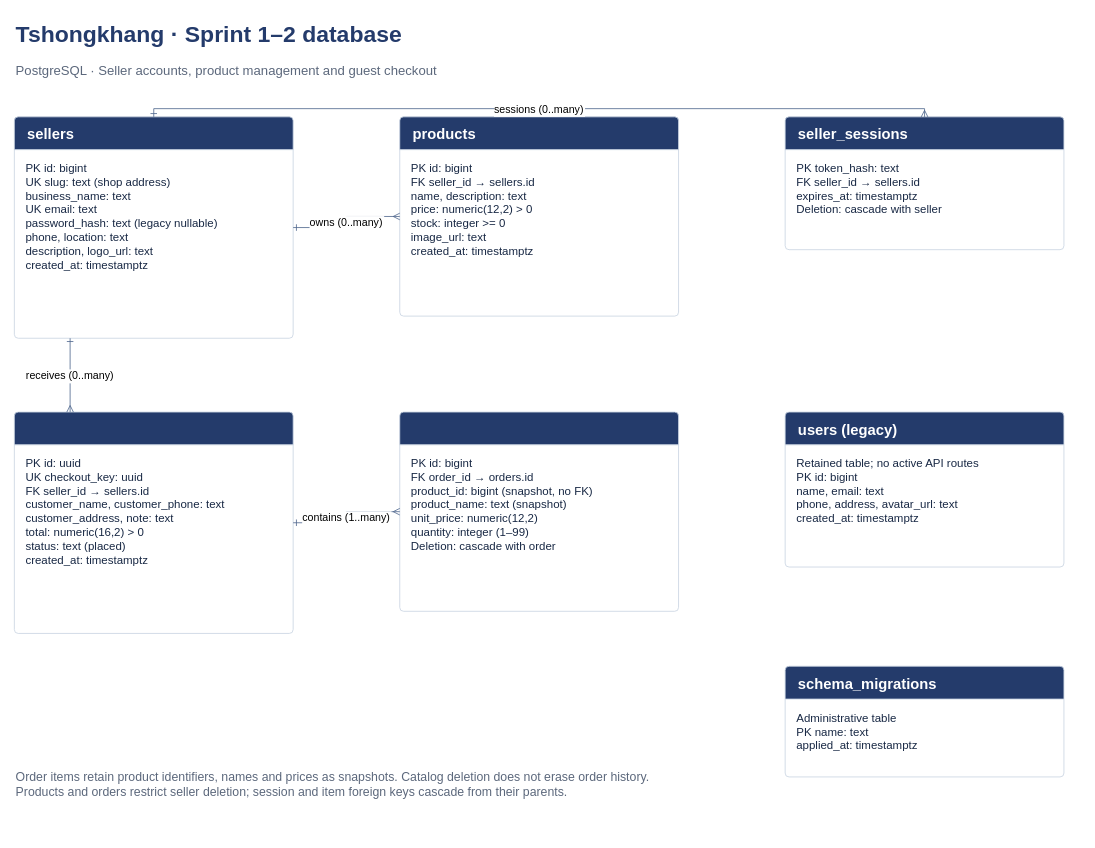
Some shapes in this 1095 by 848 pixel diagram are drawn without their labels. The box of each missing label's shape, as (x1, y1, x2, y2) in pixels:
order_items: (399, 411, 679, 611)
orders: (14, 411, 293, 633)
